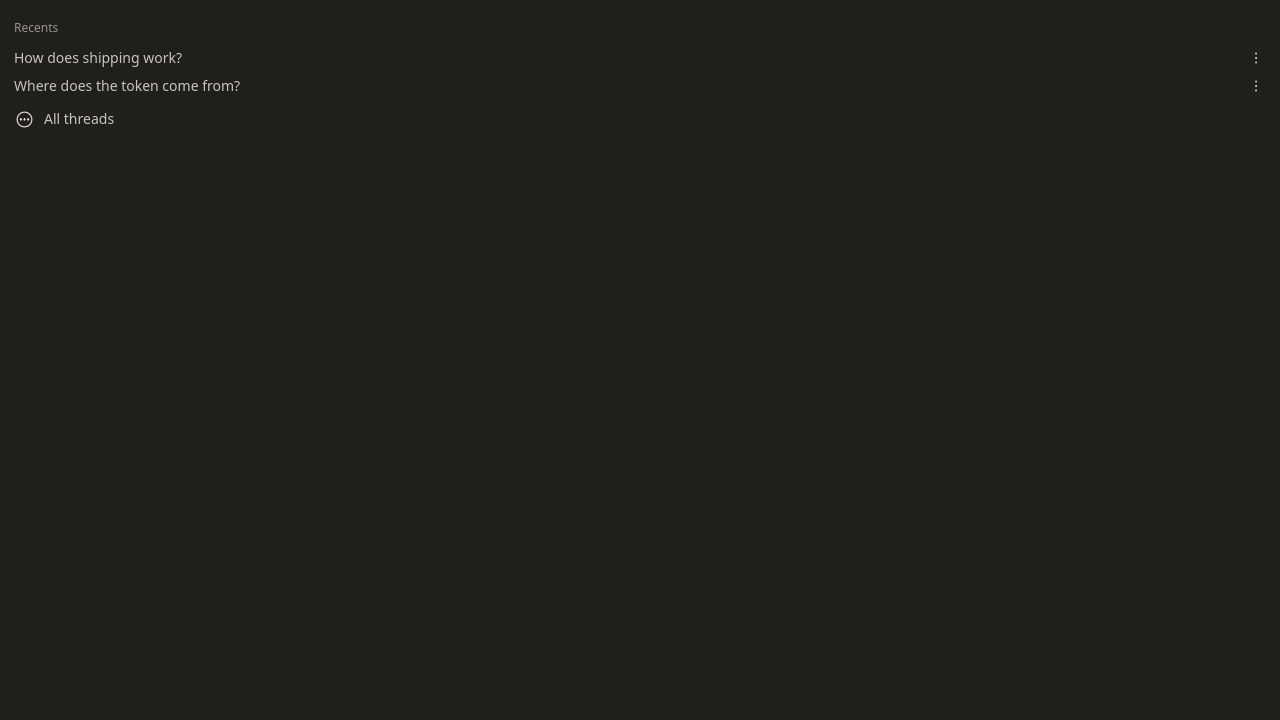
it: Threads › the row menu › deletes the thread once the dialog is confirmed, and not before
This screenshot has width=1280, height=720.
Click the button named "Actions for How does shipping work?" at x=1256, y=58, box [1244,46,1268,70]
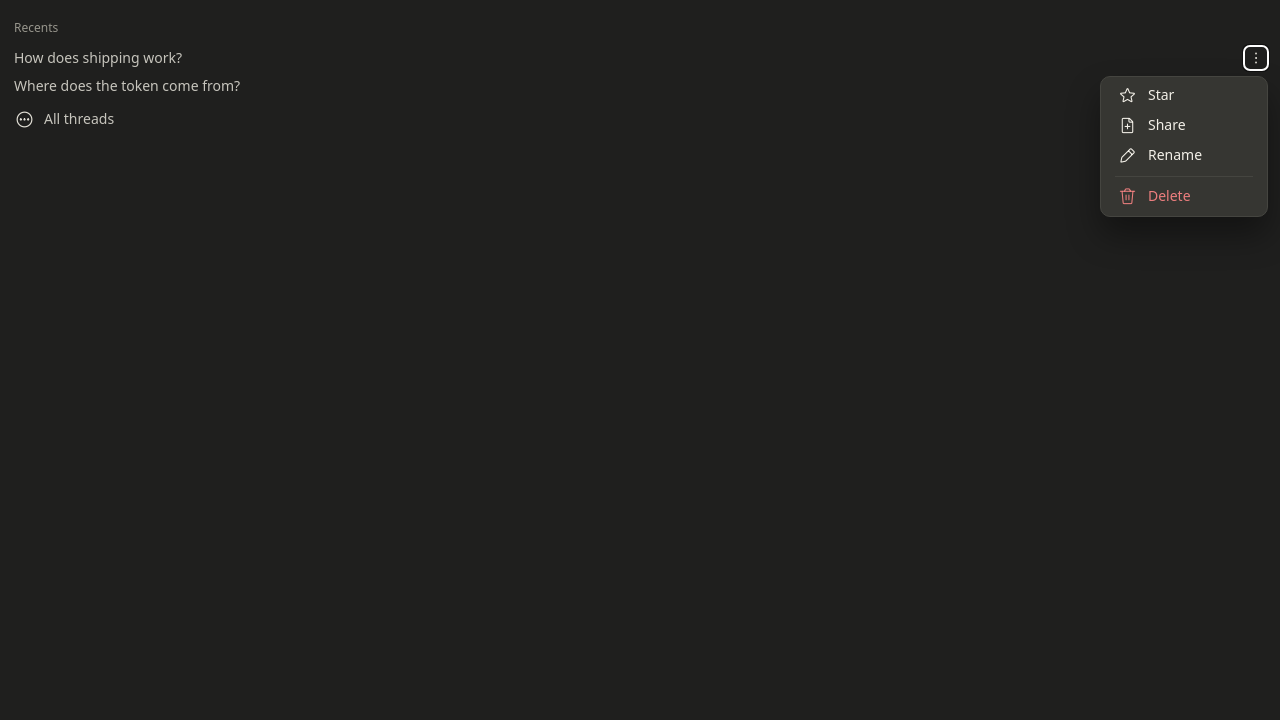
Click the menu item "Delete" at x=1184, y=197, box [1105,182,1263,212]
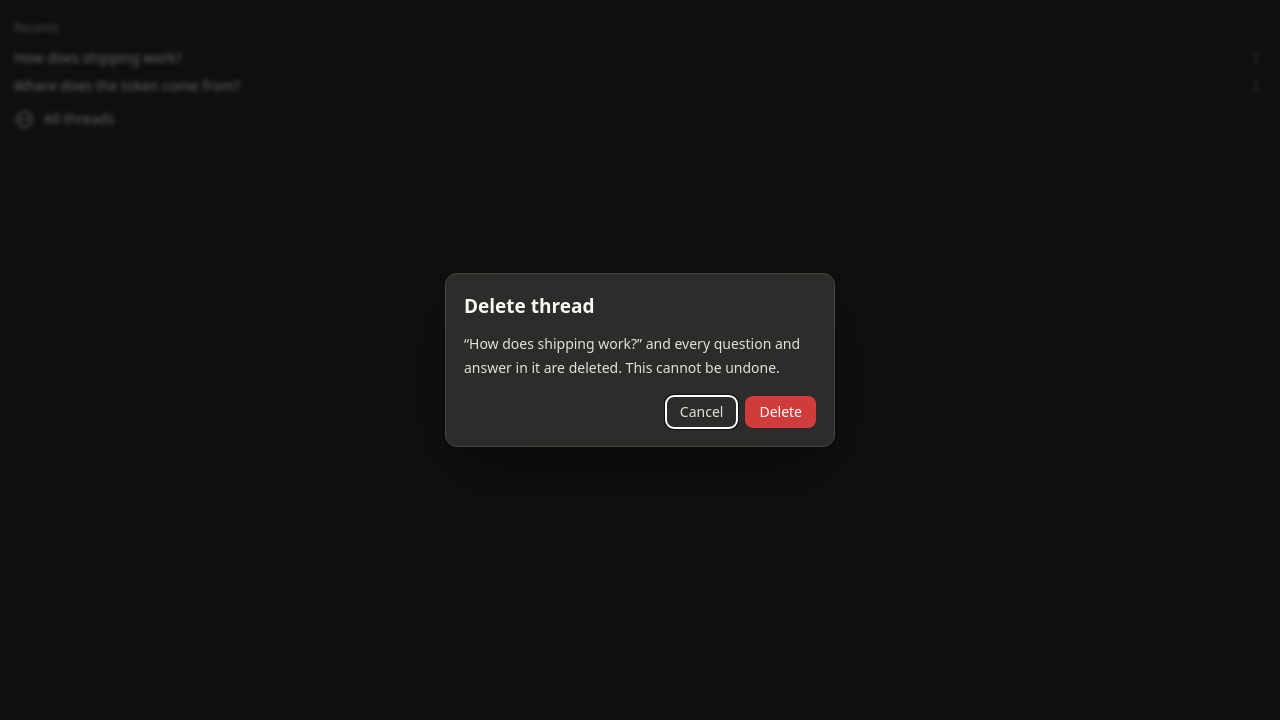
Click the button "Delete" at x=781, y=412, box [745,396,816,428]
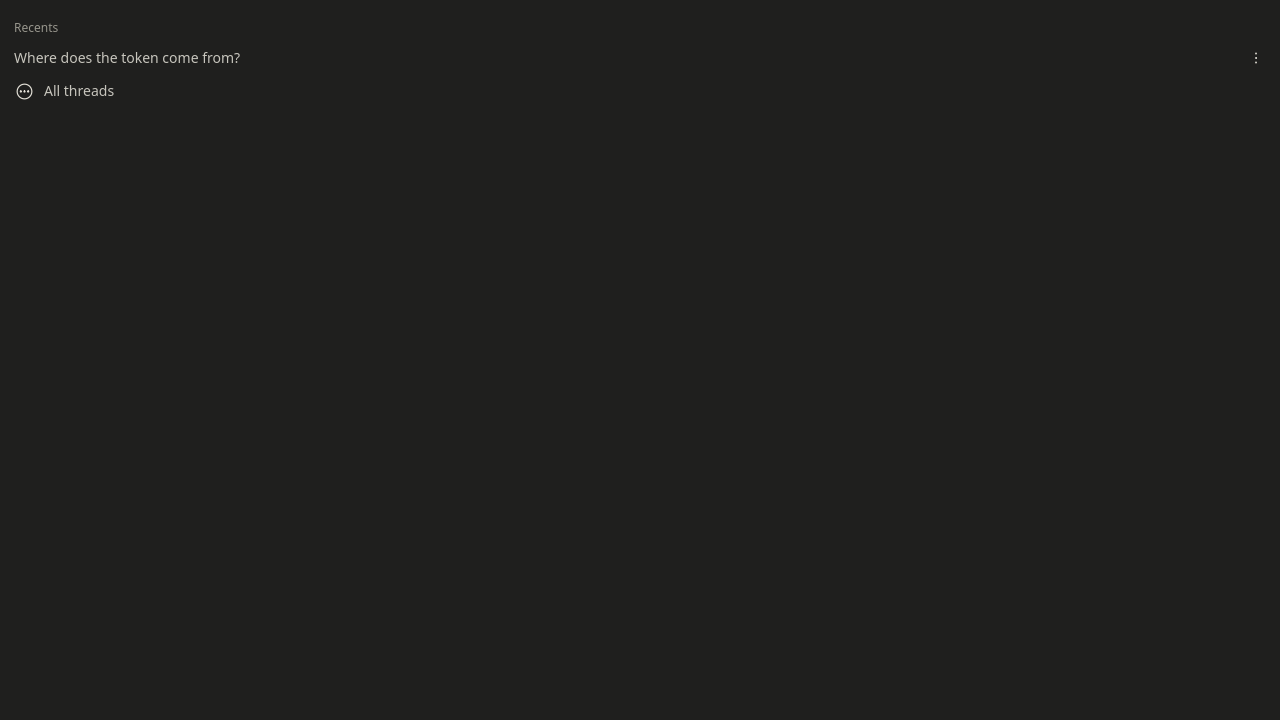
Expected: the button "How does shipping work?" is gone
